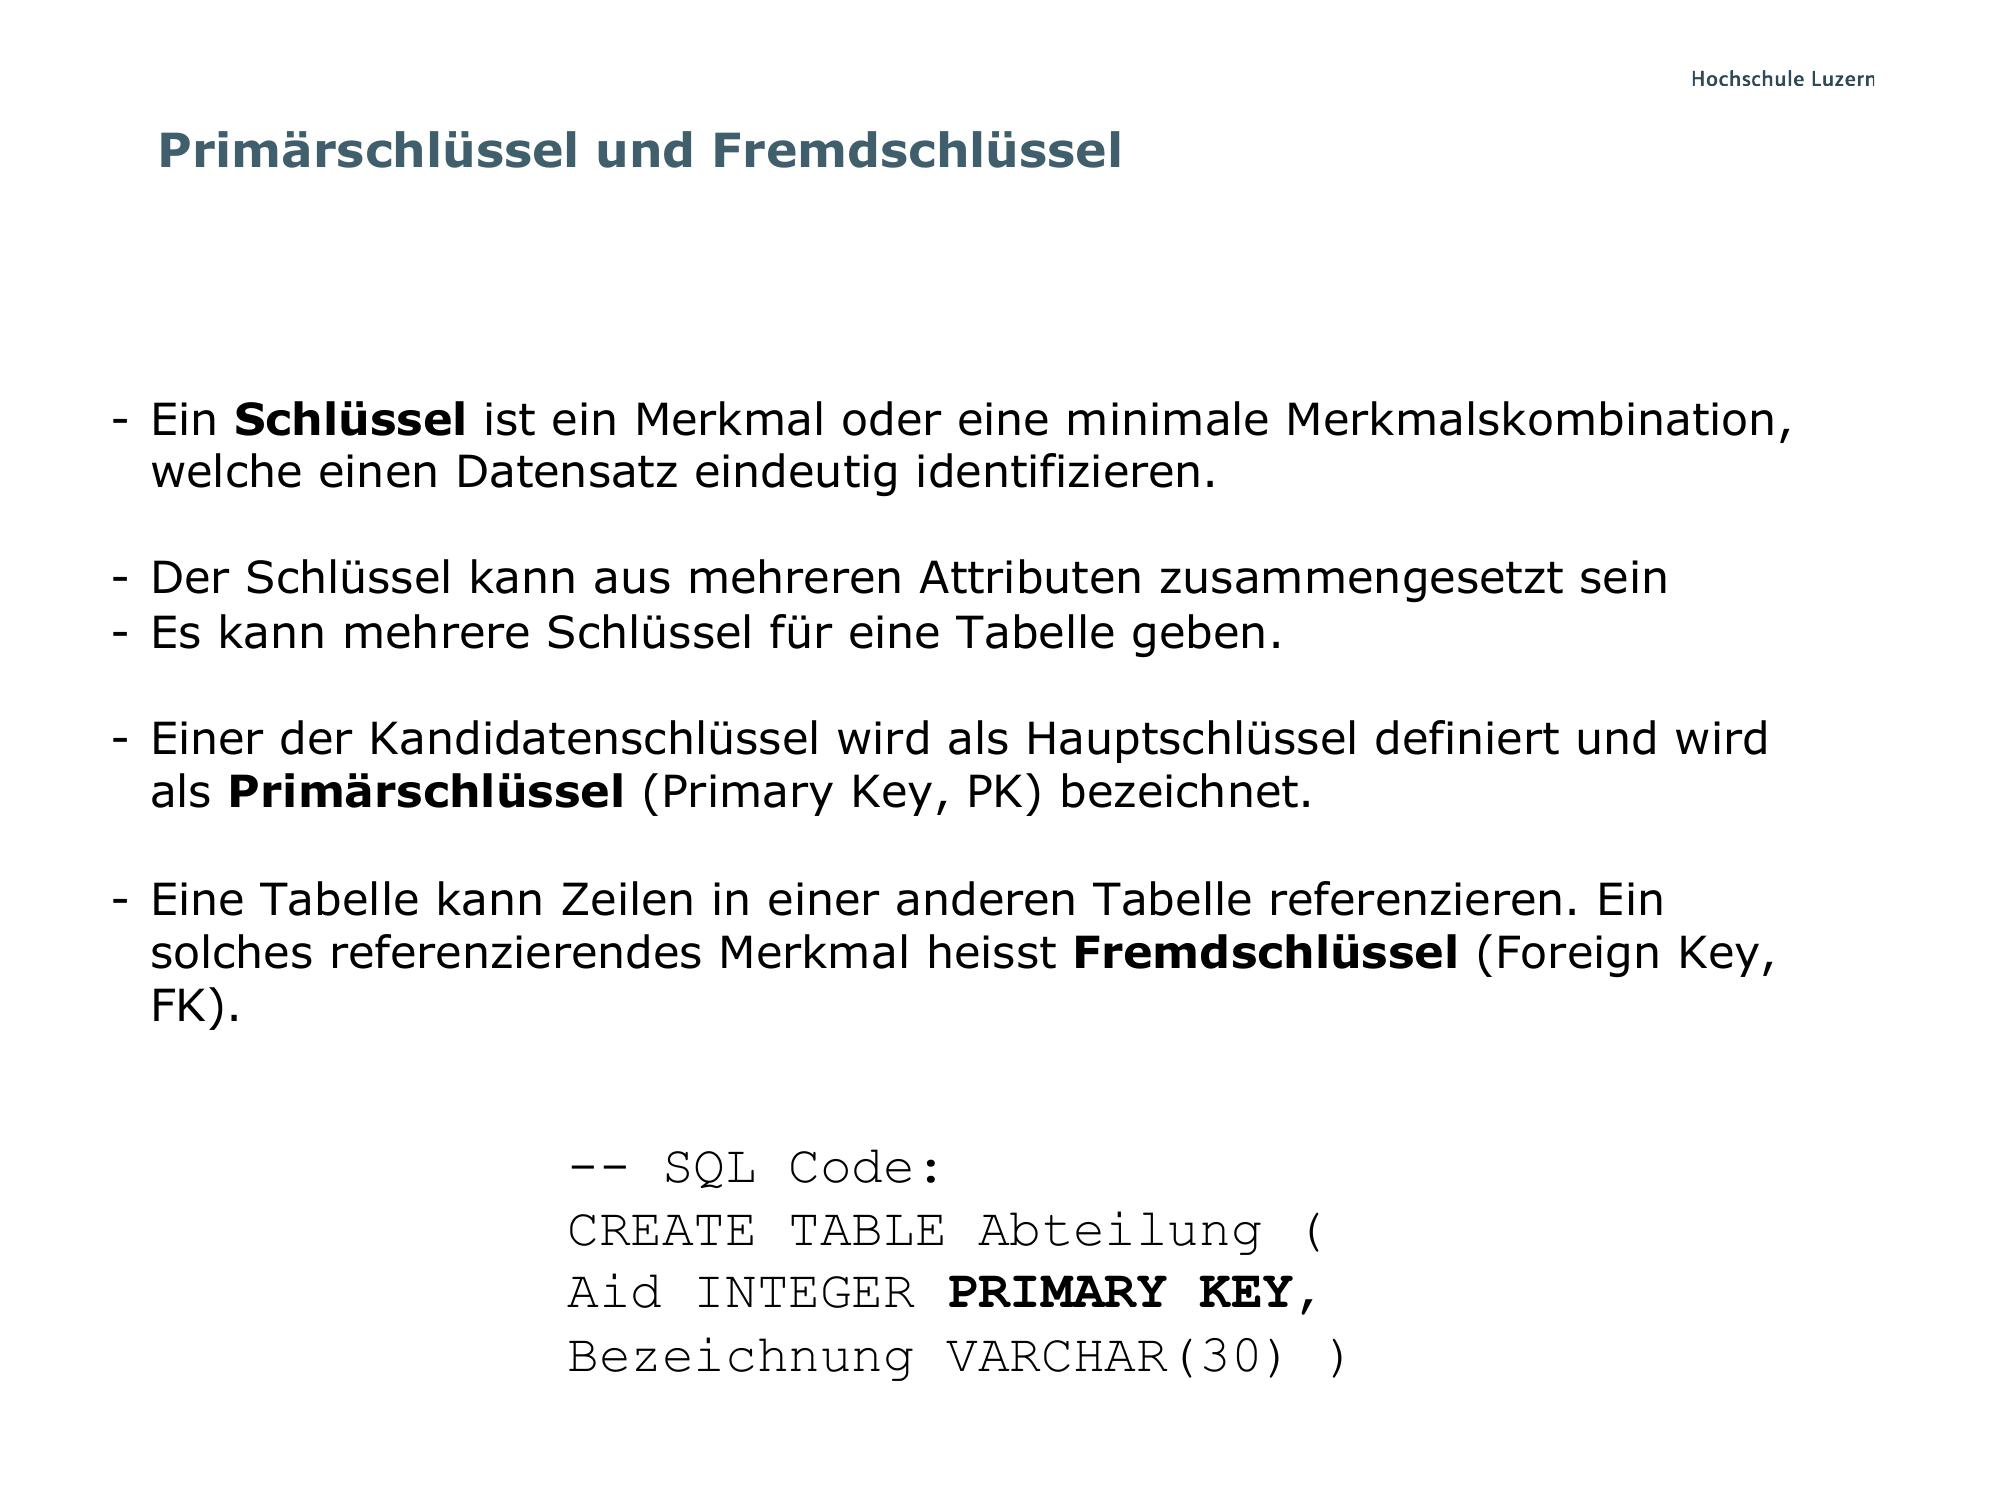Title: (153, 117, 1132, 184)
